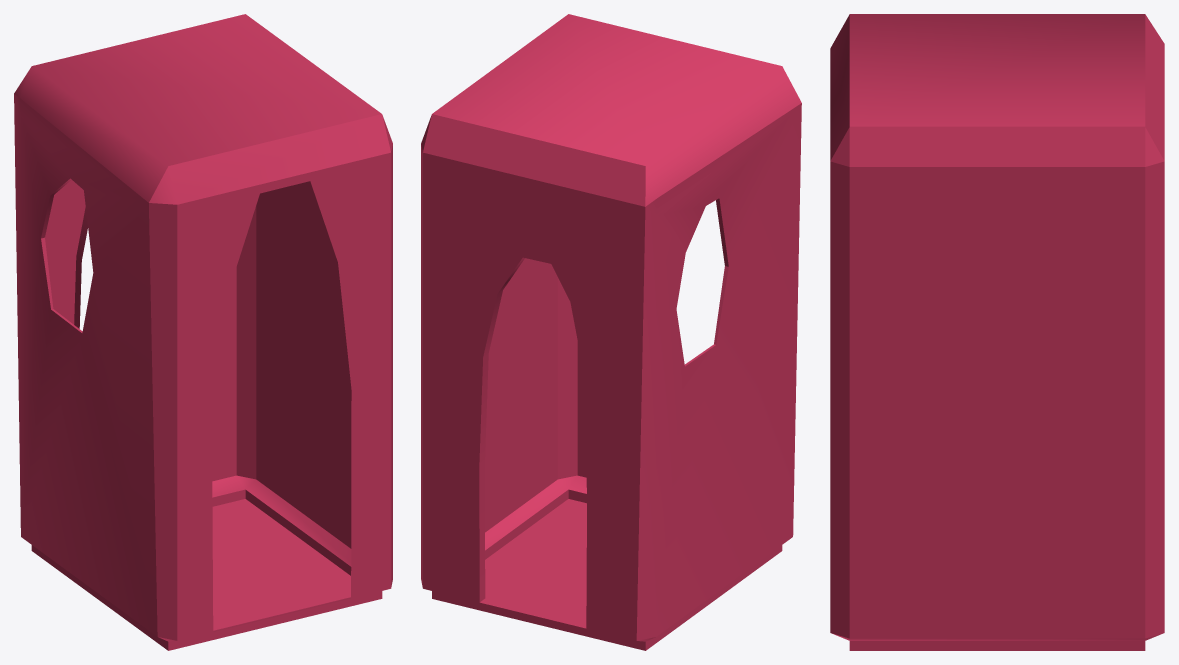
The model's file is SM_house_10.fbx.
3 views of the same model, side by side, from view 1: azimuth 30°, elevation 25°; view 2: azimuth 150°, elevation 25°; view 3: azimuth 270°, elevation 25° (orthographic). The views are drawn at different scales.
Visible parts, largest first — view 1: SM_house_8; view 2: SM_house_8; view 3: SM_house_8.
Boxes of the visible parts, box(x1,y1,x2,y2) form: SM_house_8: box(14, 14, 392, 650); SM_house_8: box(421, 14, 801, 650); SM_house_8: box(830, 14, 1164, 650).
Size of the model in its own units: 844 by 769 by 1459.
